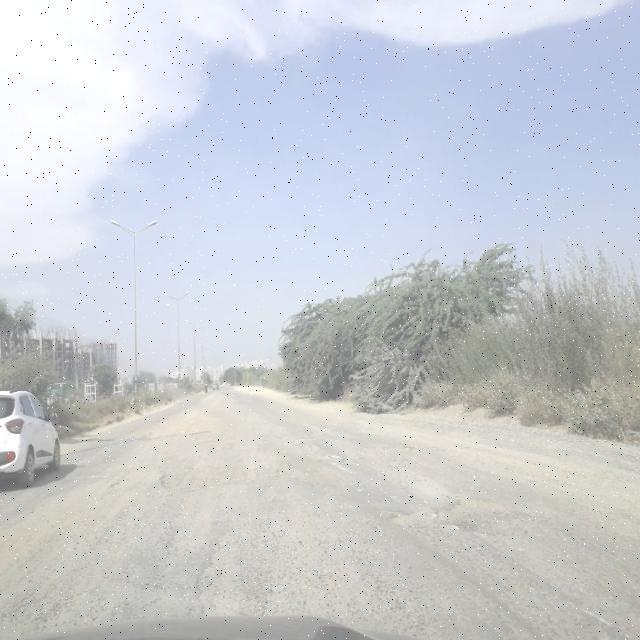D40: (1, 502, 173, 622), (190, 515, 366, 617), (102, 448, 260, 493), (437, 491, 547, 533), (135, 411, 235, 439), (295, 446, 382, 474), (388, 428, 436, 462), (384, 501, 432, 534)
